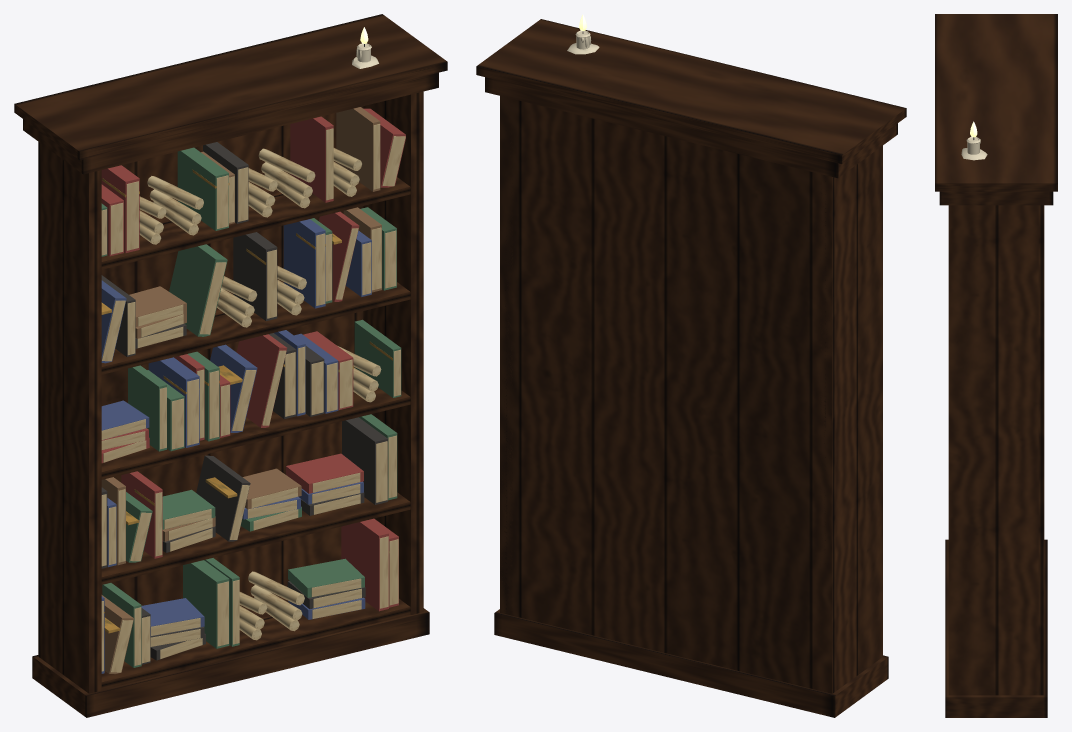
File: bookshelf.glb
3 views of the same model, side by side, from view 1: azimuth 30°, elevation 25°; view 2: azimuth 150°, elevation 25°; view 3: azimuth 270°, elevation 25° (orthographic). The views are drawn at different scales.
Parts seen in each view (by area): view 1: bookshelf; view 2: bookshelf; view 3: bookshelf.
Boxes of the visible parts, left/top/right/bottom form: bookshelf: left=14, top=14, right=447, bottom=717; bookshelf: left=476, top=14, right=906, bottom=717; bookshelf: left=935, top=14, right=1057, bottom=717.
Size of the model in its own units: 1.76 by 2.78 by 0.54.
Materials: 11 (3 with a texture image).
